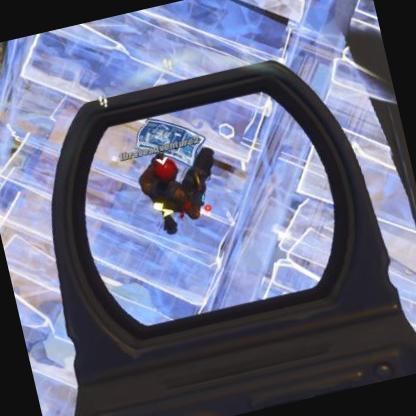person: (137, 145, 206, 214)
